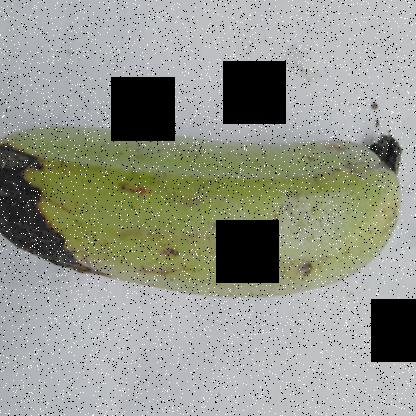rotten: (0, 119, 98, 292)
unripe: (71, 84, 404, 303)
